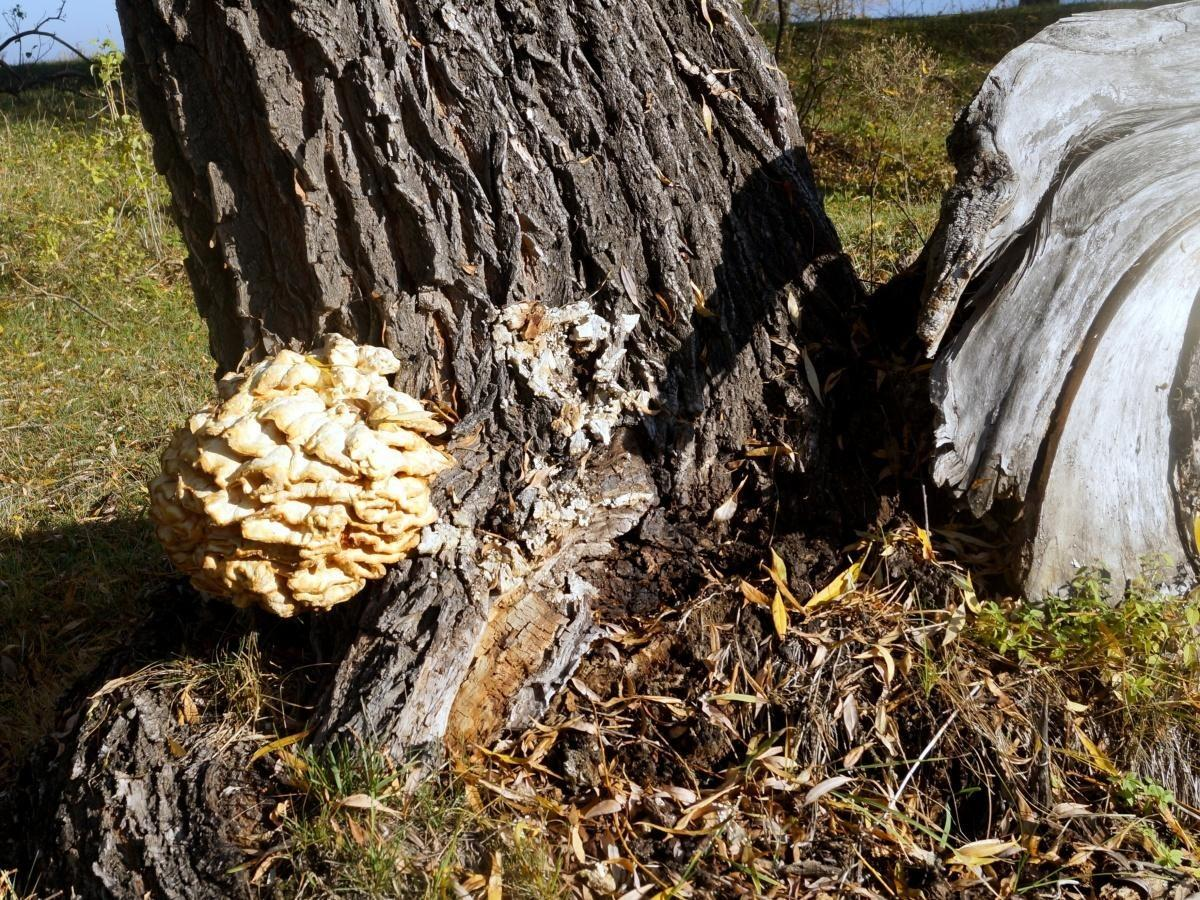Sulphur-yellow tinder fungus: (150, 335, 451, 615)
